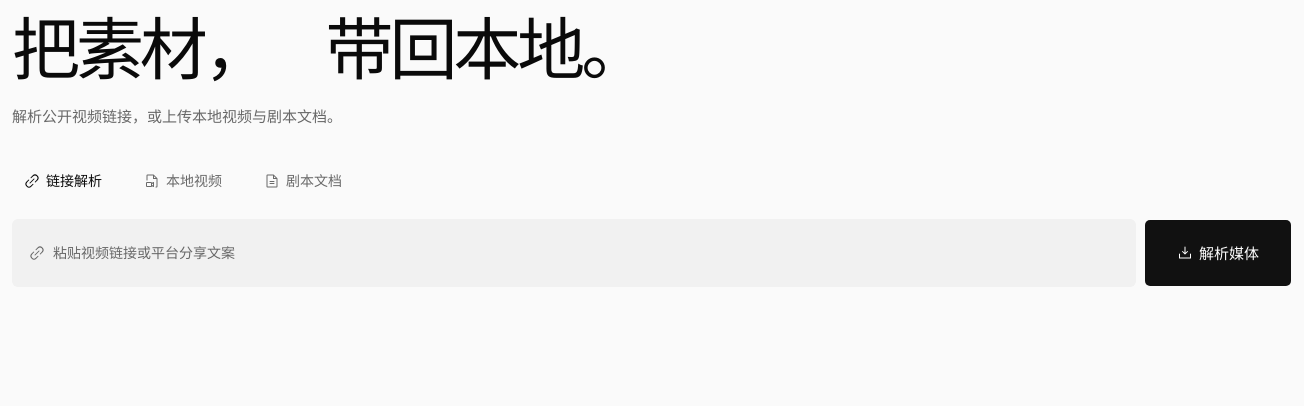
Test case: DownloadWorkspace › does not mark the URL field invalid when inspection fails downstream
Type "https://media.example/slow" into the text box named "公开视频地址". click: x=590, y=253
box: [45, 220, 1135, 286]
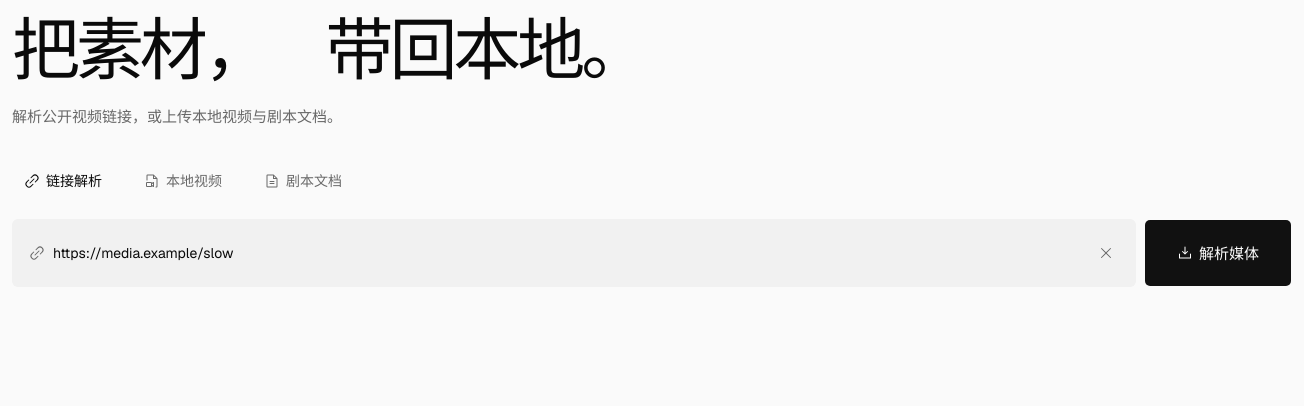
Click the button "解析媒体". click: x=1218, y=253
box: [1144, 219, 1292, 287]
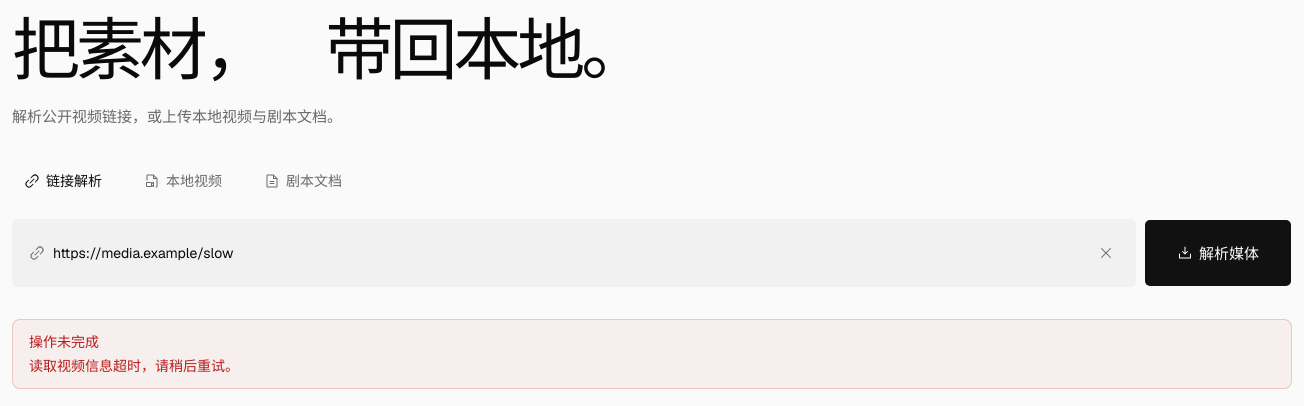
Expected: the text "读取视频信息超时，请稍后重试。" is shown, [29, 357, 239, 375]
